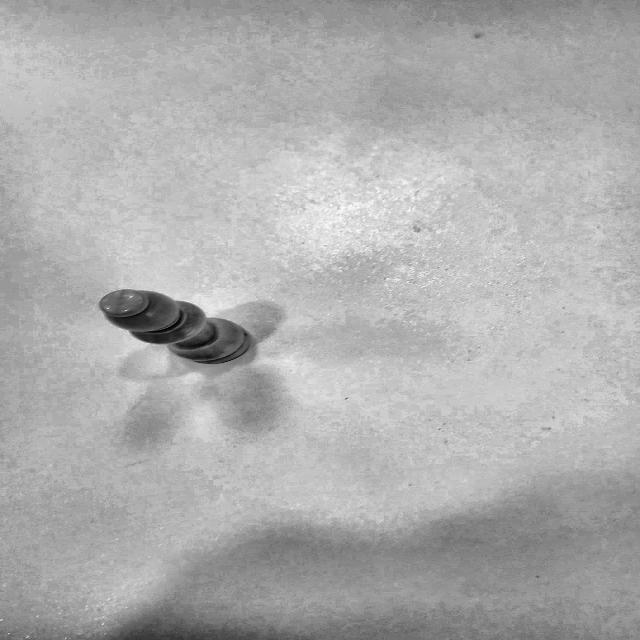white-bishop: (87, 266, 274, 386)
